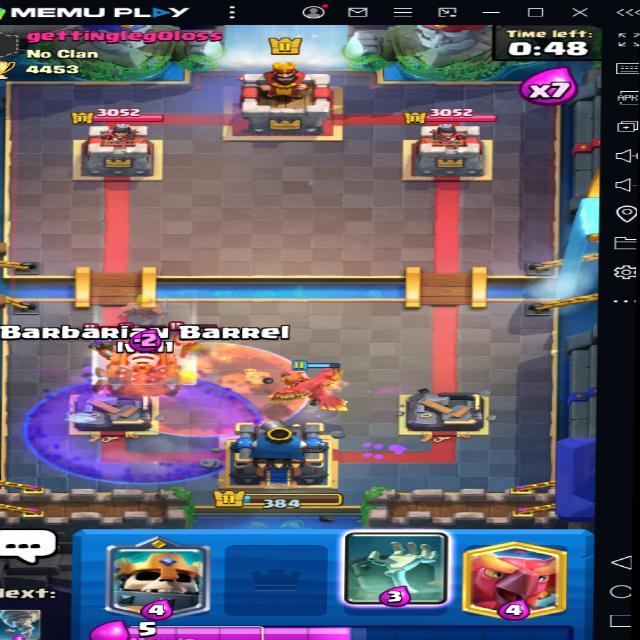Musketeer: (170, 318, 214, 358), (84, 319, 122, 358)
Sparky: (103, 328, 178, 387)
